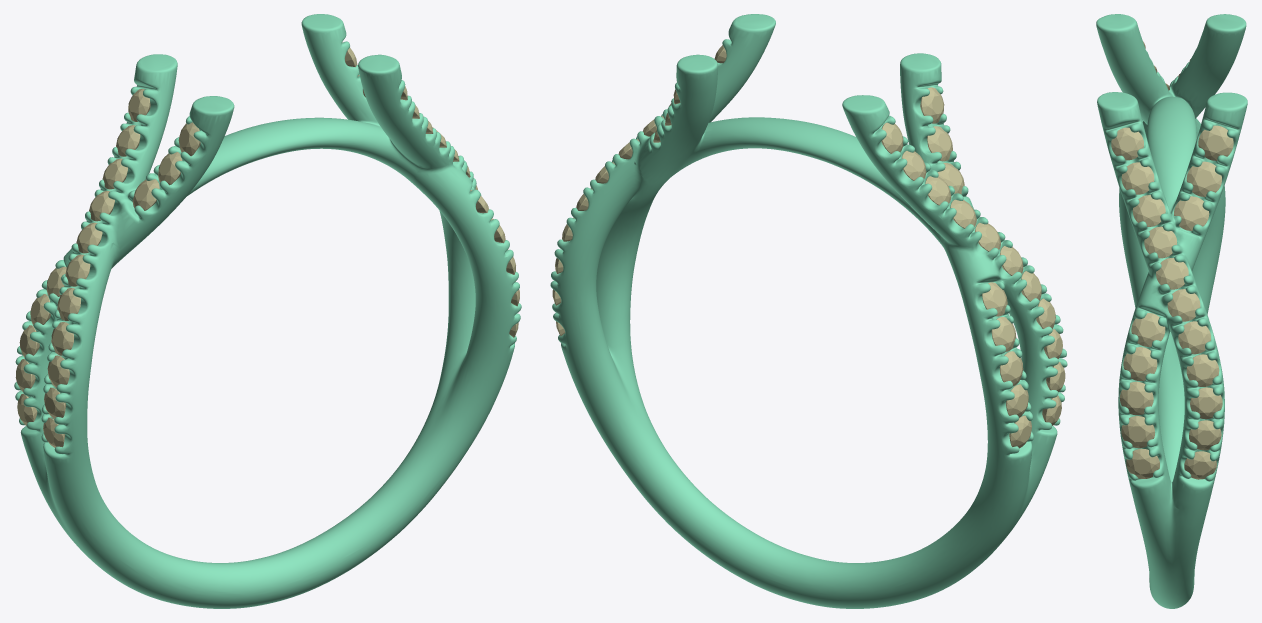
3 views of the same model, side by side, from view 1: azimuth 30°, elevation 25°; view 2: azimuth 150°, elevation 25°; view 3: azimuth 270°, elevation 25° (orthographic). The views are drawn at different scales.
Visible parts, largest first — view 1: Metal02; view 2: Metal02; view 3: Metal02, Diamond_Gem.013, Diamond_Gem.014, Diamond_Gem.015, Diamond_Gem.009, Diamond_Gem.010, Diamond_Gem.008, Diamond_Gem.022, Diamond_Gem.011, Diamond_Gem.021, Diamond_Gem.024, Diamond_Gem.023 (+8 smaller).
Part boxes in pixels (x1,y1,x2,y2): Metal02: (14, 14, 521, 608); Metal02: (550, 14, 1067, 608); Metal02: (1096, 14, 1247, 608); Diamond_Gem.013: (1198, 125, 1233, 160); Diamond_Gem.014: (1186, 161, 1221, 196); Diamond_Gem.015: (1174, 196, 1209, 230); Diamond_Gem.009: (1123, 347, 1157, 380); Diamond_Gem.010: (1119, 381, 1153, 415); Diamond_Gem.008: (1131, 313, 1165, 346); Diamond_Gem.022: (1111, 127, 1143, 160); Diamond_Gem.011: (1121, 416, 1155, 448); Diamond_Gem.021: (1121, 162, 1154, 194); Diamond_Gem.024: (1178, 321, 1210, 354); Diamond_Gem.023: (1186, 354, 1219, 386).
Size of the model in its own units: 21.07 by 22.88 by 6.
